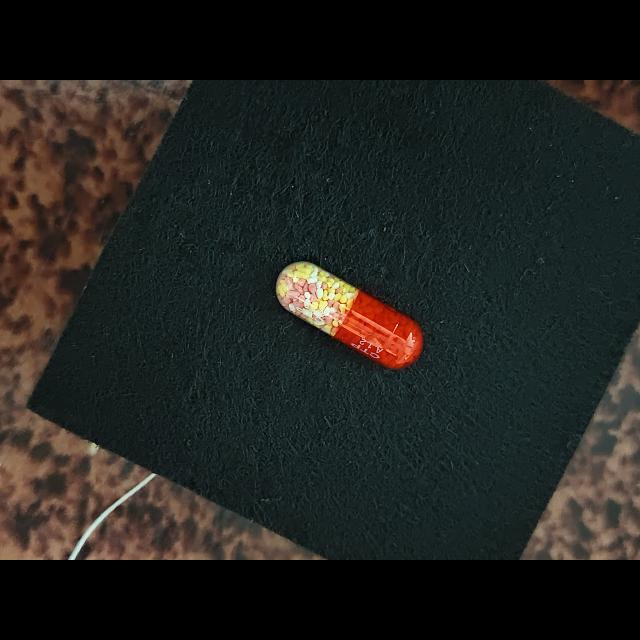Intact Capsule: (276, 261, 423, 370)
